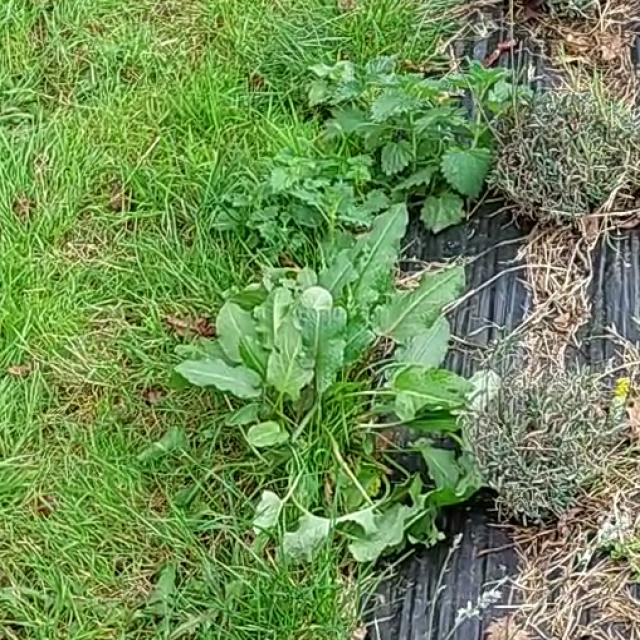organic waste: (151, 178, 488, 548)
